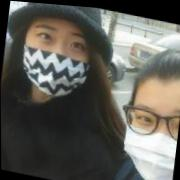OK: (115, 83, 180, 180)
WRONG: (19, 14, 97, 102)
